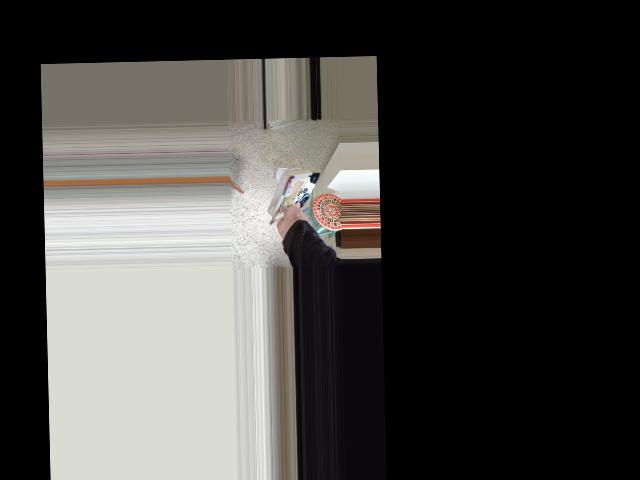cheese: (260, 165, 330, 237)
